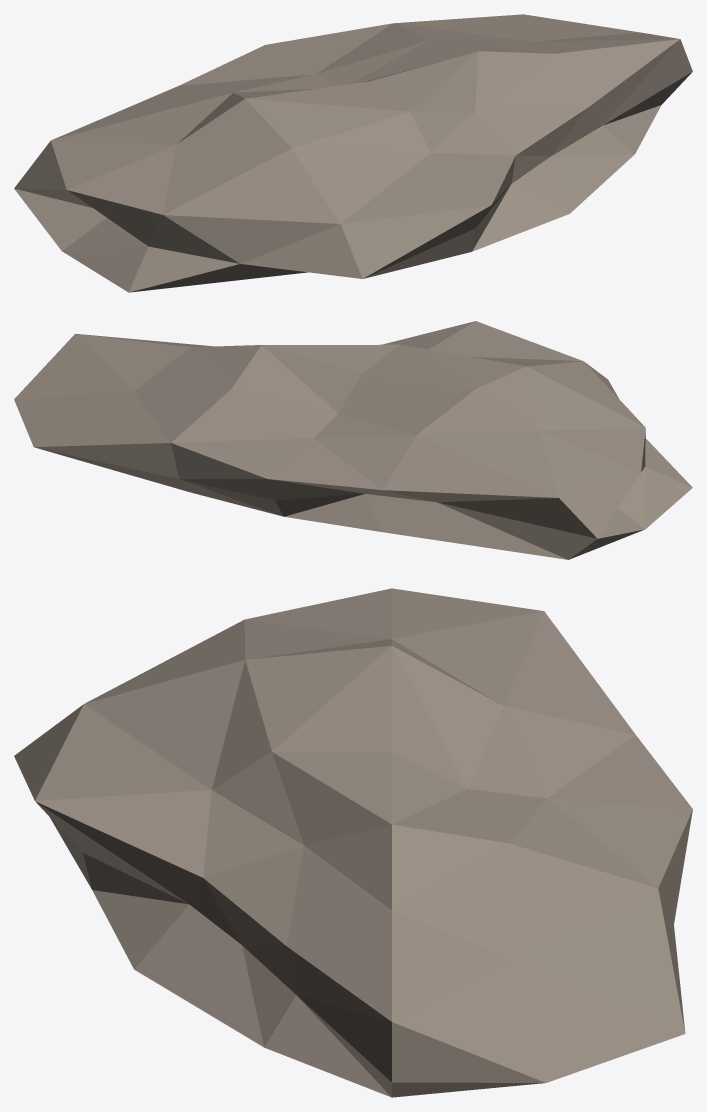
The model's file is rock_b.glb.
3 renders of one model, top to bottom at view 1: azimuth 30°, elevation 25°; view 2: azimuth 150°, elevation 25°; view 3: azimuth 270°, elevation 25°, orthographic. The views are drawn at different scales.
Visible parts, largest first — view 1: rock_b; view 2: rock_b; view 3: rock_b.
Part boxes in pixels (x1,y1,x2,y2): rock_b: (14,14,692,292); rock_b: (14,321,692,559); rock_b: (14,588,692,1097).
Bounding box in the file's own units: 9.01 × 1.47 × 5.77.
